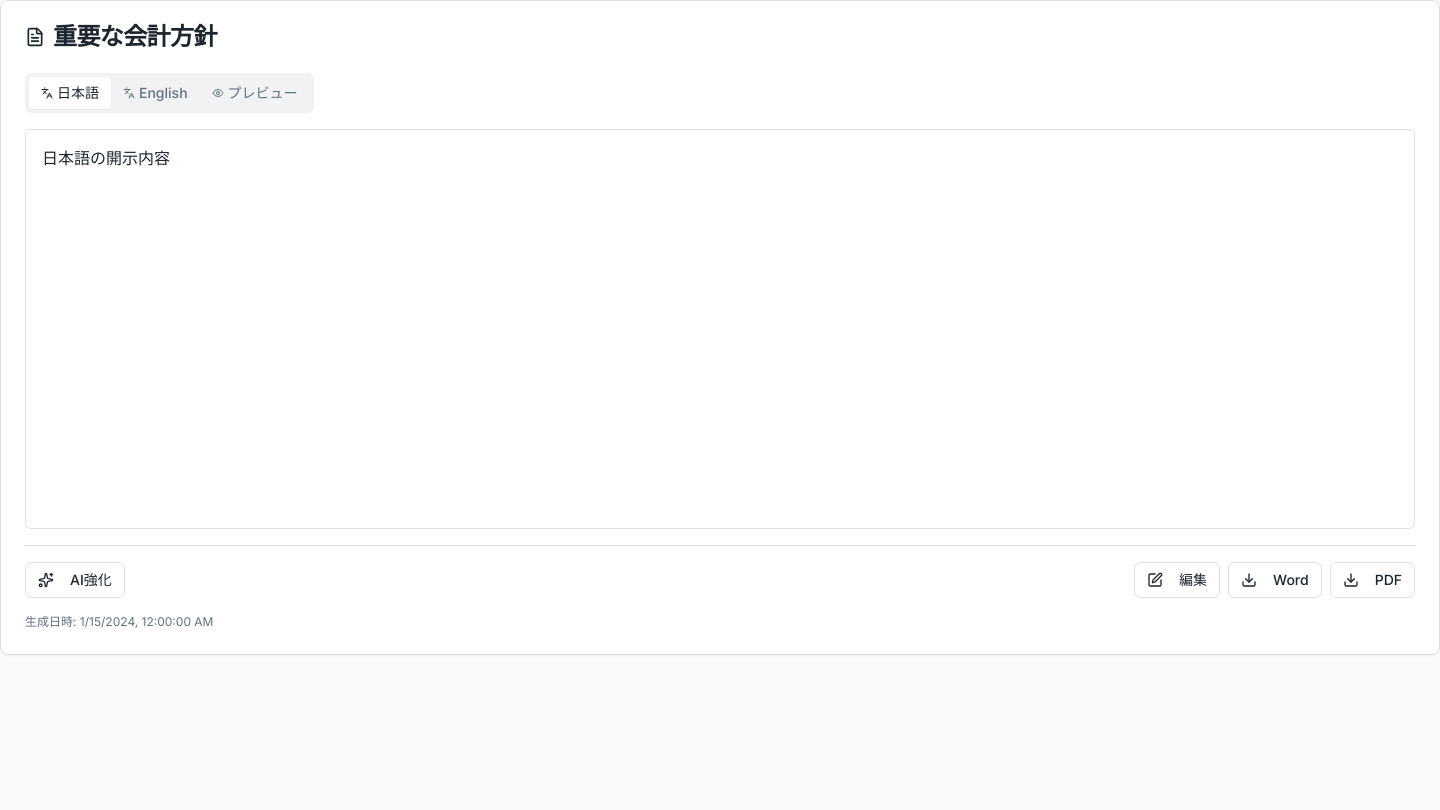
Test: DisclosureEditor — editing flow › reverts to view mode after a successful save
Click the button "編集".
click(1177, 580)  # box [1134,562,1220,598]
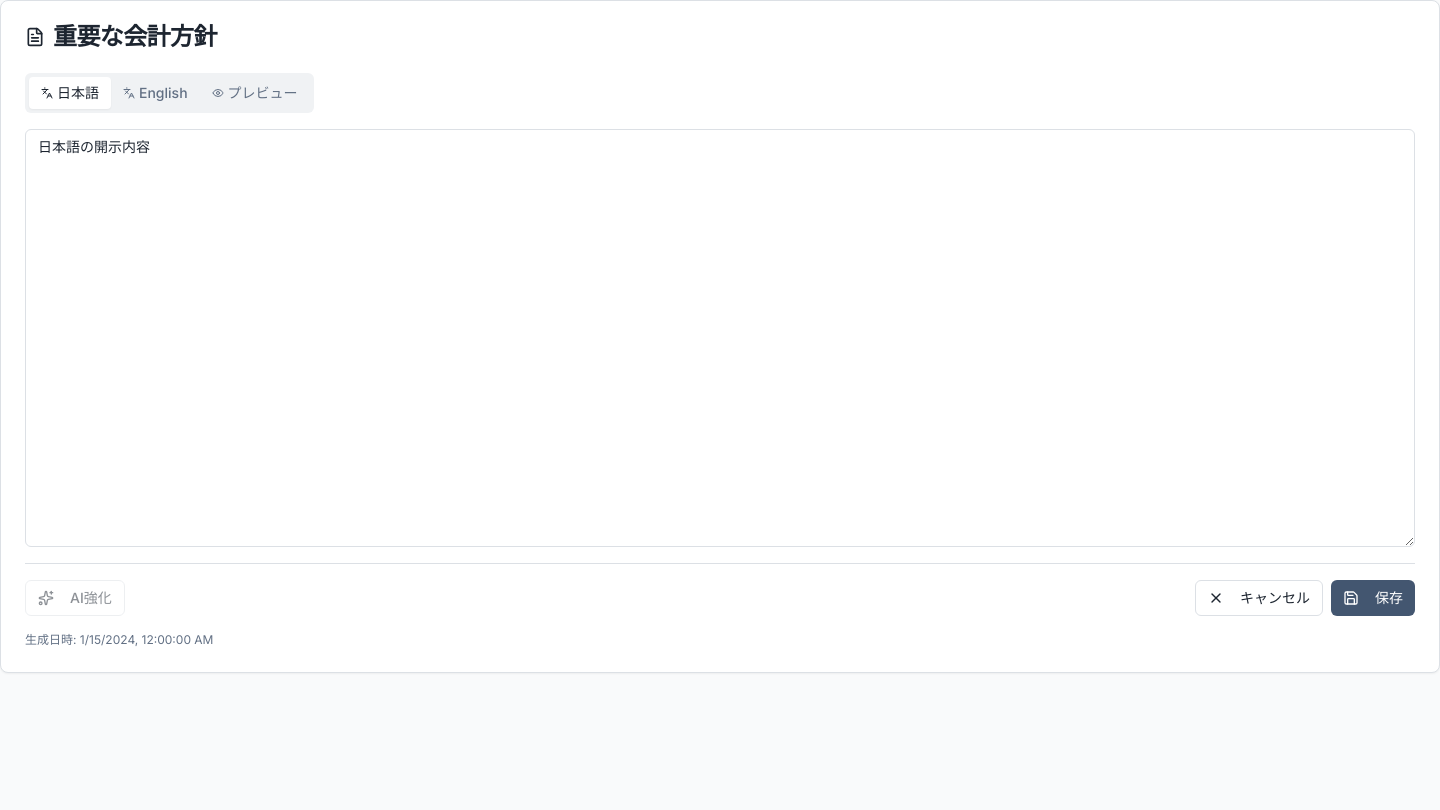
Click the button "保存".
click(1373, 598)  # box [1331,580,1415,616]
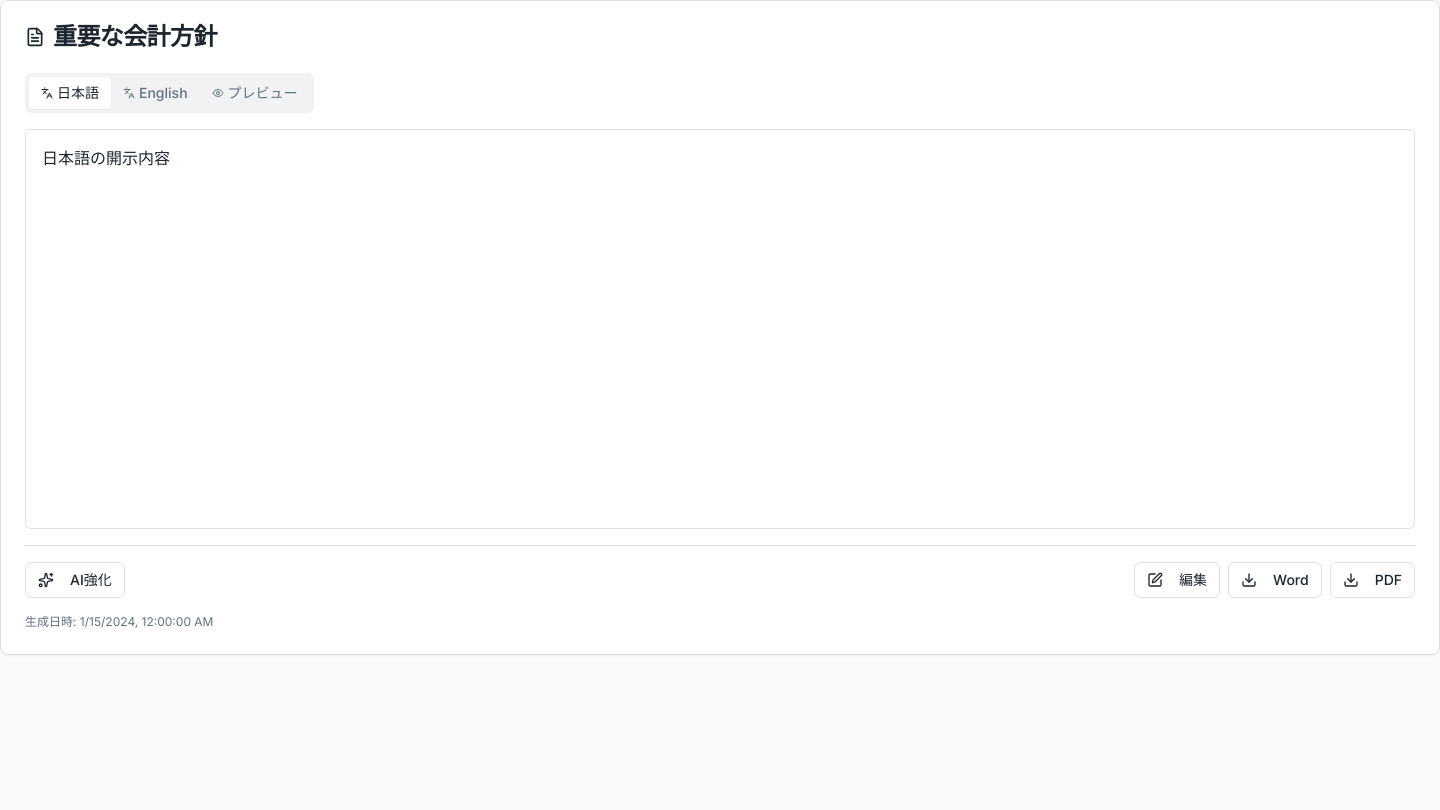
Expected: the button "編集" is shown, [1134,562,1220,598]
Expected: the button "保存" is gone
